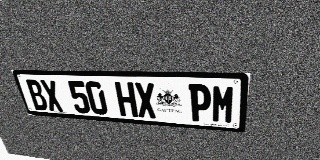0: (84, 81, 109, 115)
5: (67, 81, 92, 114)
B: (24, 79, 49, 111)
H: (114, 82, 138, 117)
M: (211, 84, 236, 124)
P: (189, 84, 211, 122)
X: (134, 82, 157, 119), (39, 80, 64, 112)
